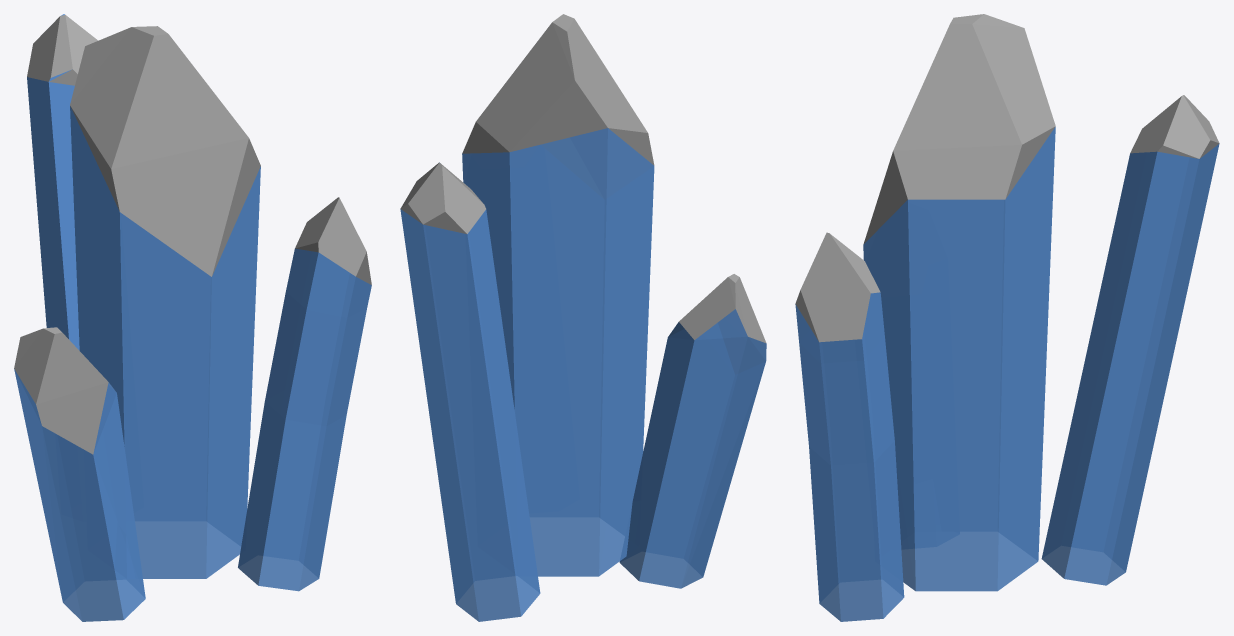
Rendered from Crystals_l_03.fbx.
3 renders of one model, left to right at view 1: azimuth 30°, elevation 25°; view 2: azimuth 150°, elevation 25°; view 3: azimuth 270°, elevation 25°, orthographic. The views are drawn at different scales.
Visible parts, largest first — view 1: Crystals_l_03; view 2: Crystals_l_03; view 3: Crystals_l_03.
Boxes of the visible parts, x1,y1,x2,y2 form: Crystals_l_03: [14, 14, 371, 621]; Crystals_l_03: [400, 14, 766, 621]; Crystals_l_03: [795, 14, 1219, 621].
Bounding box in the file's own units: 266 × 449 × 308.
